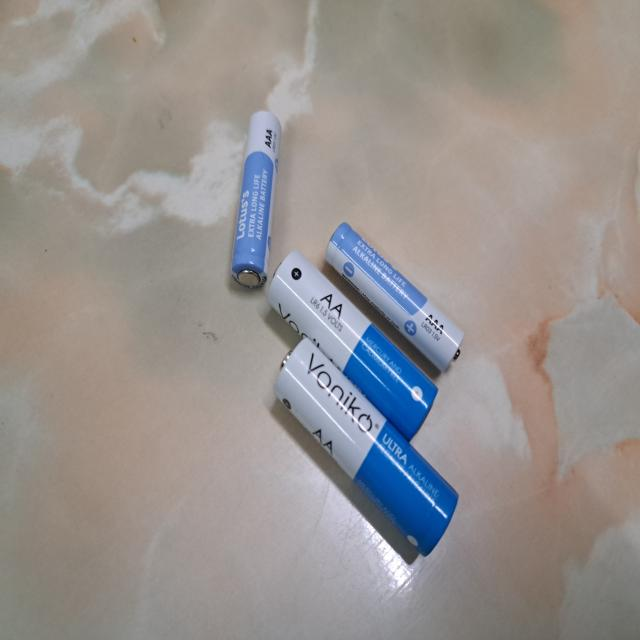battery: (272, 337, 460, 556), (266, 250, 439, 439), (322, 222, 464, 374), (231, 108, 281, 290)
